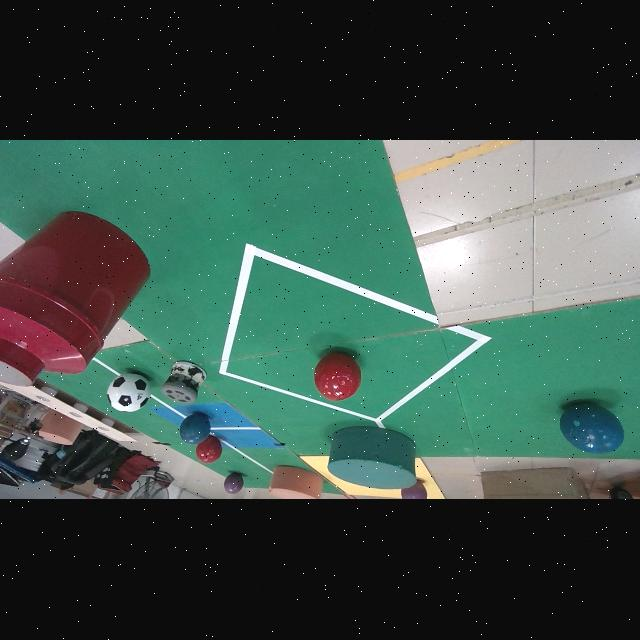B: (559, 404, 624, 455), (180, 414, 210, 445)
P: (402, 482, 427, 500), (224, 474, 243, 494)
R: (315, 354, 360, 400), (196, 437, 223, 464)
